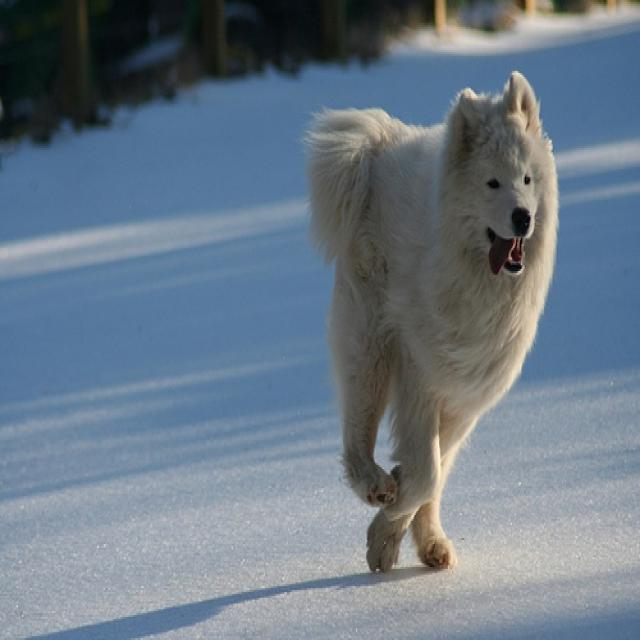dog-samoyed: (296, 54, 562, 588)
